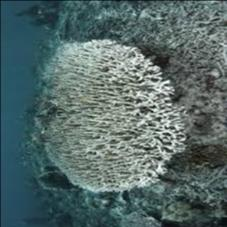bleached_corals: (25, 25, 194, 200)
